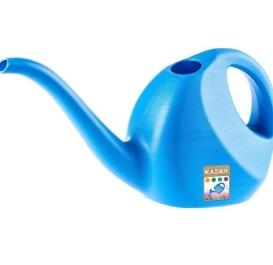ARROSOIR: (0, 9, 273, 265)
